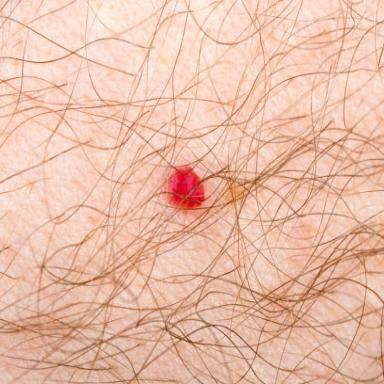Hemangiome: (168, 169, 205, 208)
